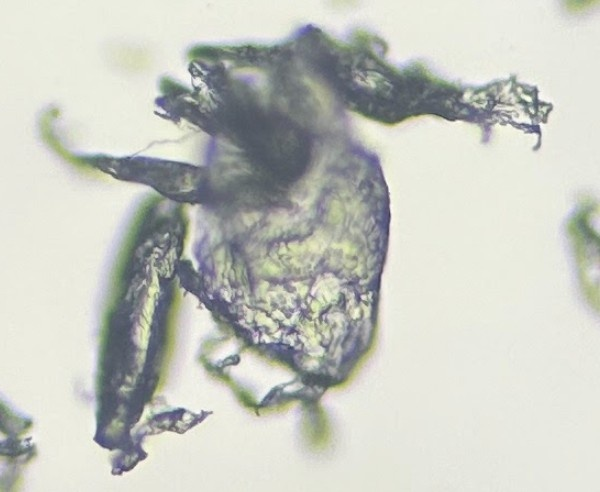microplastic: (37, 26, 553, 453), (91, 198, 211, 476), (559, 190, 600, 327), (1, 392, 37, 492), (557, 1, 600, 20)
